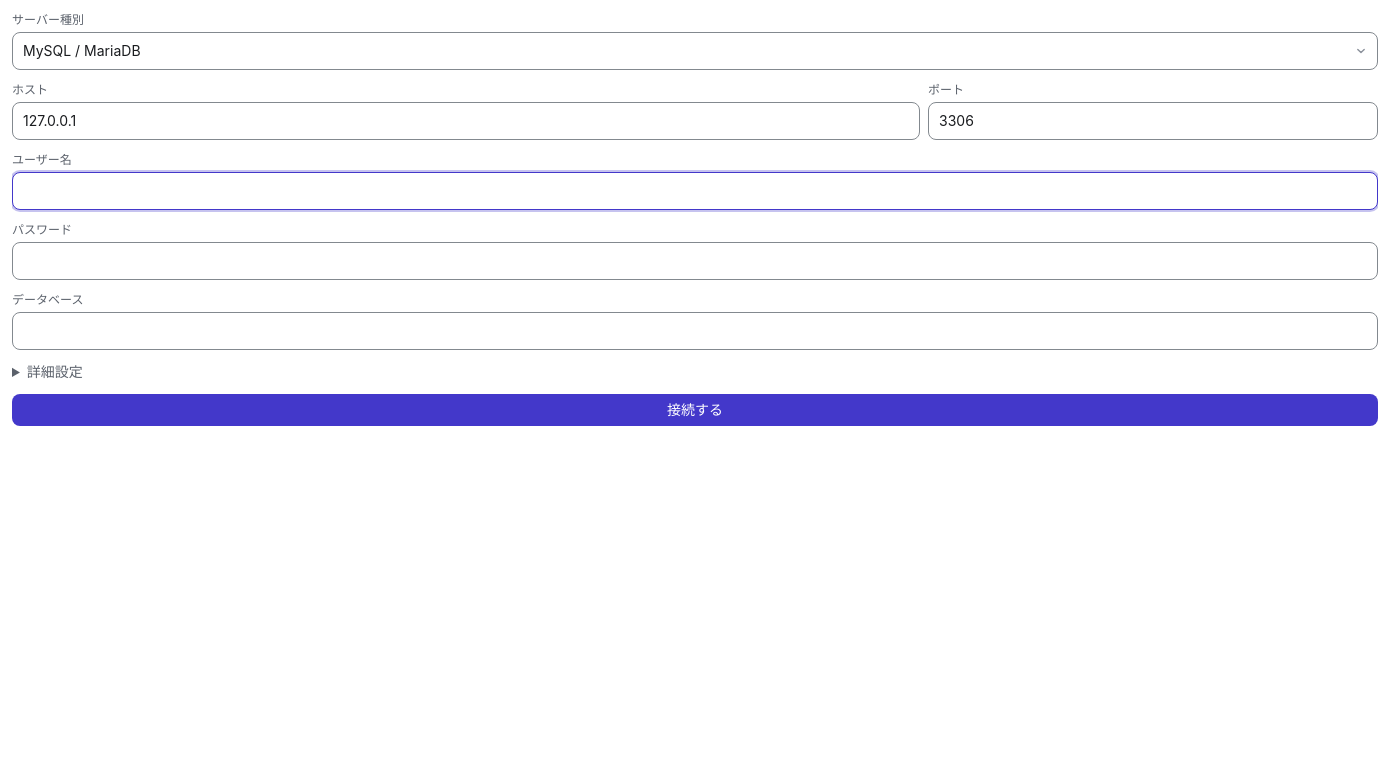
Test: LoginForm with a passkey › answers the challenge a refused login carried, and drops it once an attempt is refused
Type "alice" into the field labelled "ユーザー名" at coordinates (695, 191), box [12,172,1378,210]
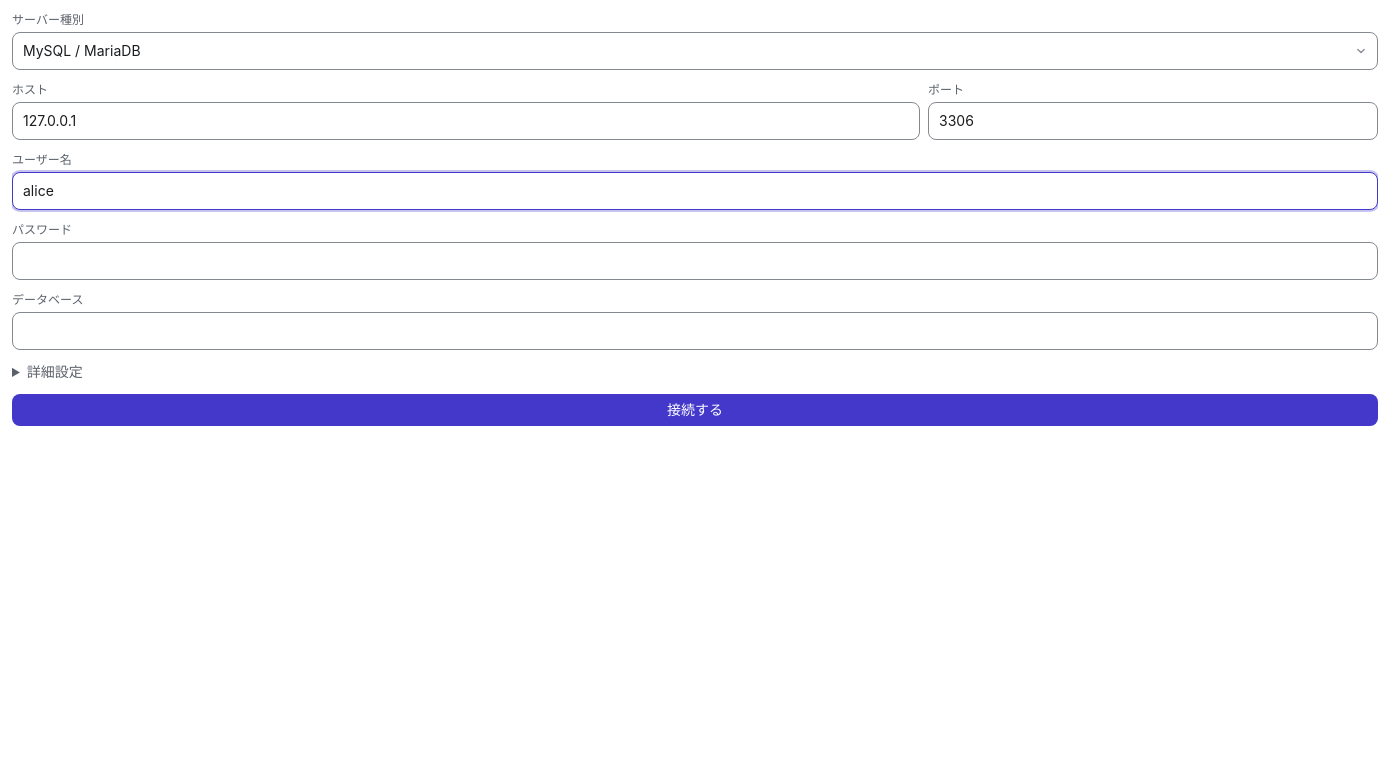
Type "pw" into the password field labelled "パスワード" at coordinates (695, 261), box [12,242,1378,280]
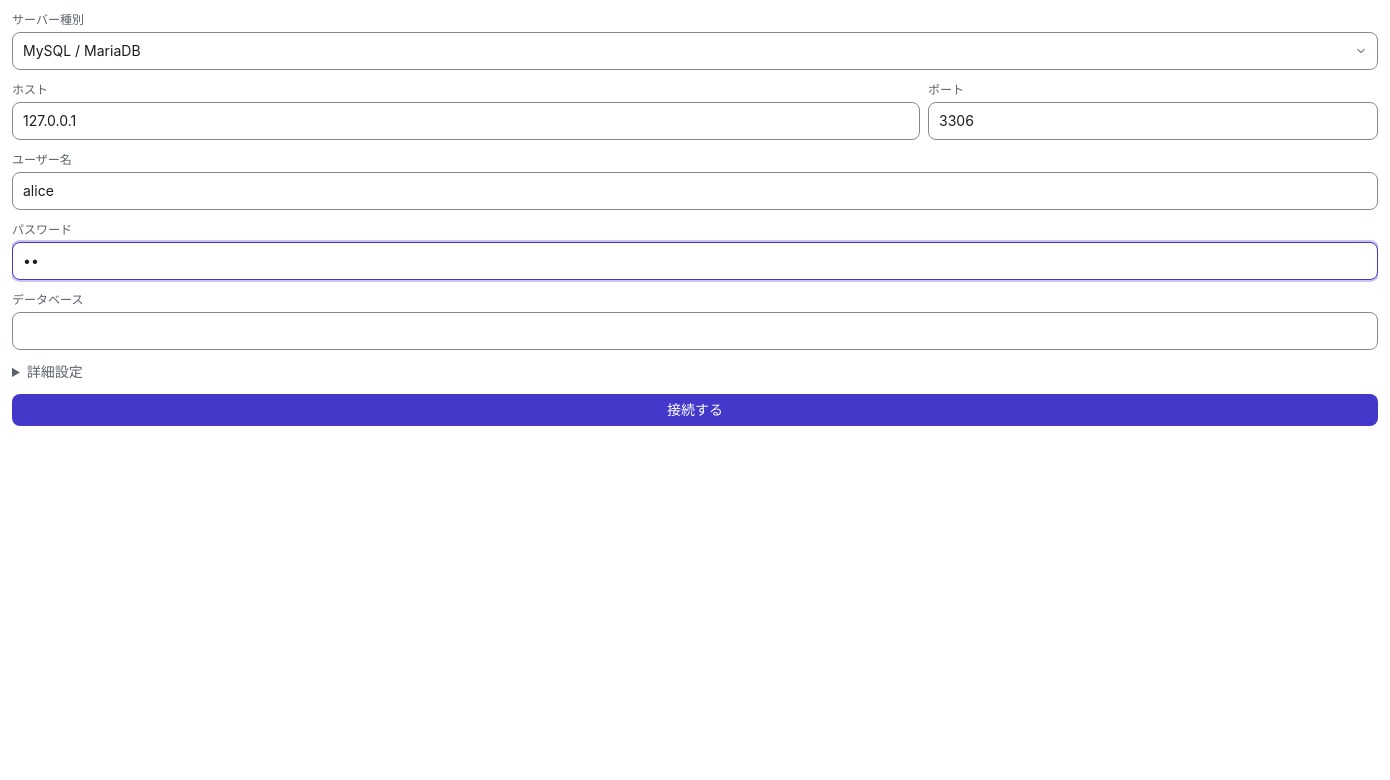
Click the button "接続する" at coordinates (695, 410), box [12,394,1378,426]
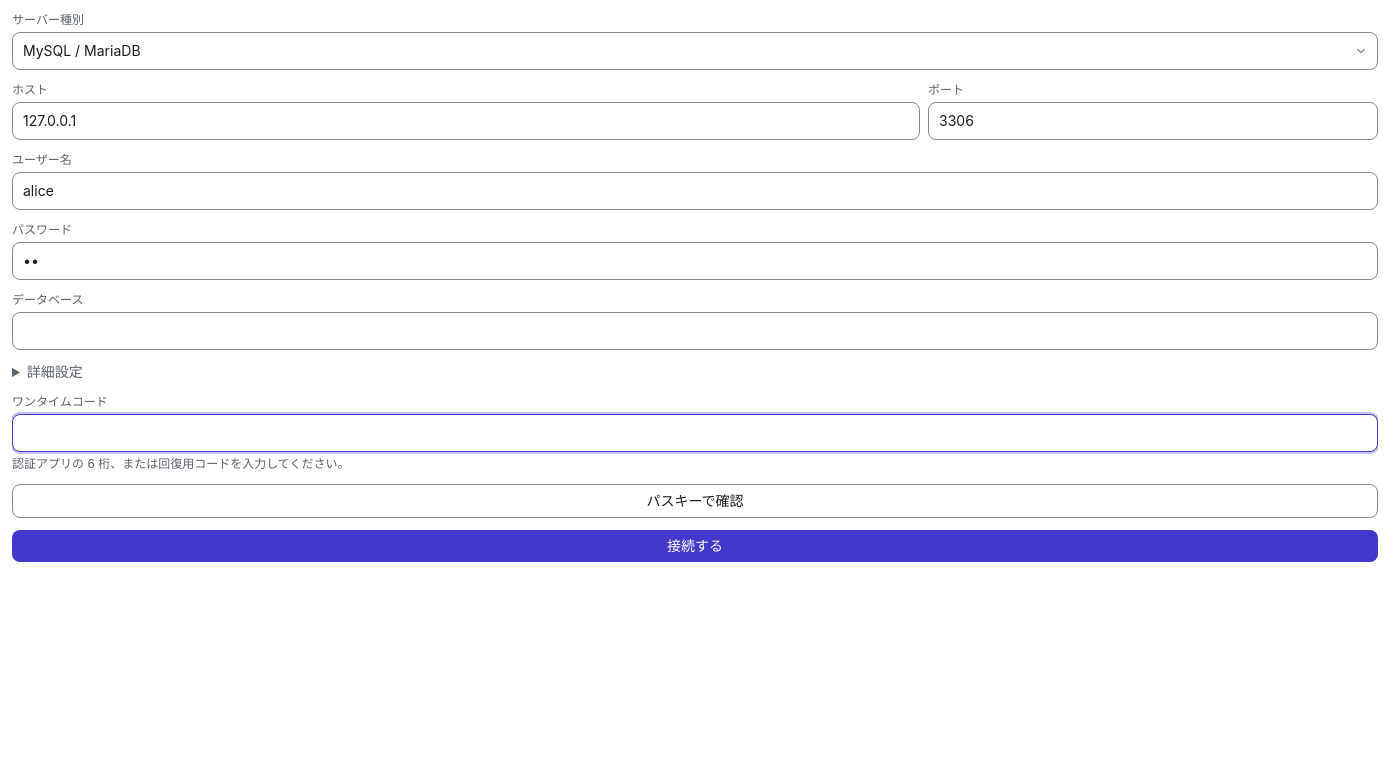
Click the button "パスキーで確認" at coordinates (695, 501), box [12,484,1378,518]
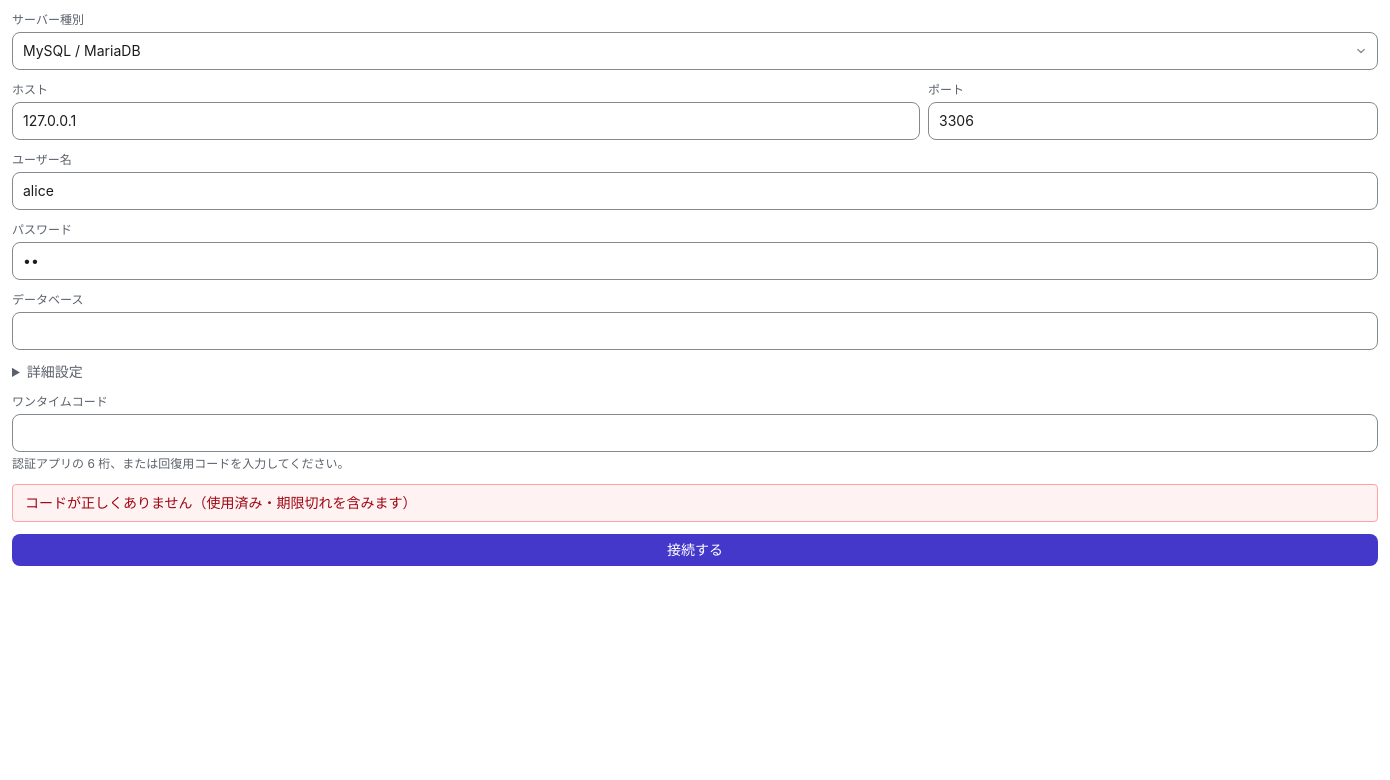
Now the button "パスキーで確認" is gone
